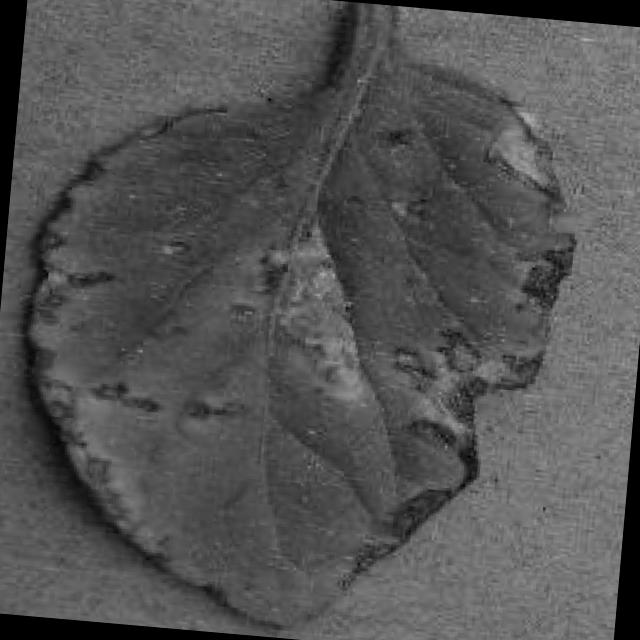bacterial spot: (23, 5, 580, 634)
